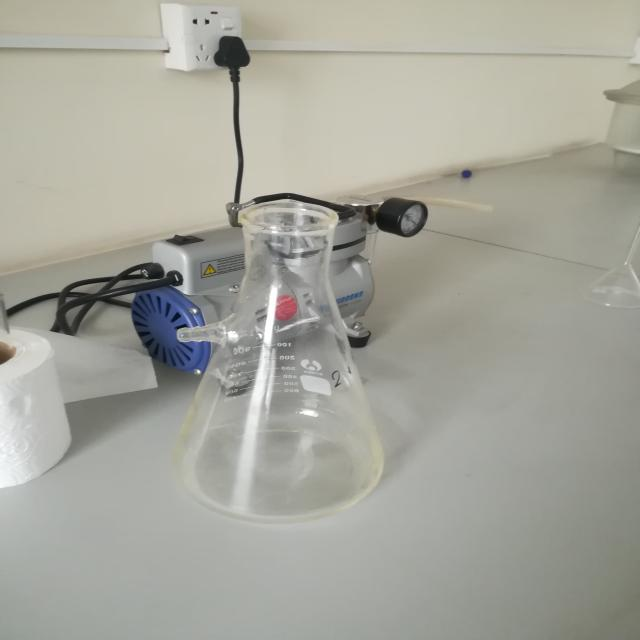Conical_Flask: (114, 156, 443, 544)
